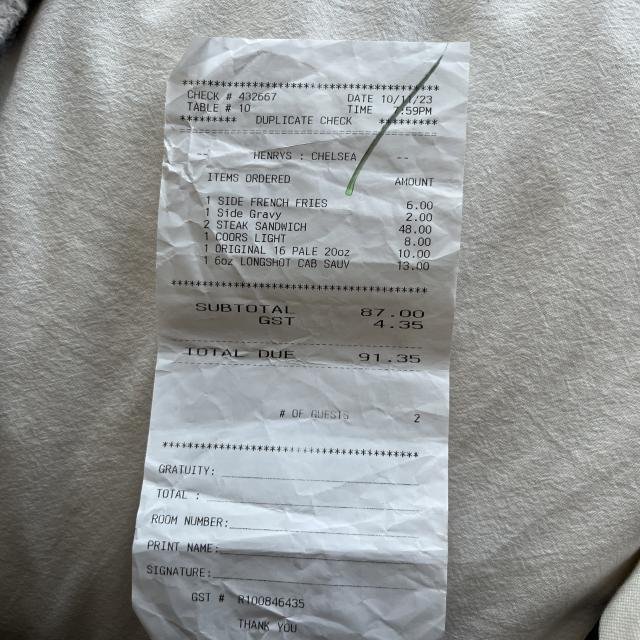item: (212, 192, 438, 211), (212, 206, 439, 224), (212, 254, 438, 272), (212, 218, 438, 236), (212, 230, 438, 247), (213, 243, 438, 259)
store_name: (248, 147, 363, 165)
total_amount: (178, 346, 428, 366)
transaction_date: (378, 92, 436, 106)
